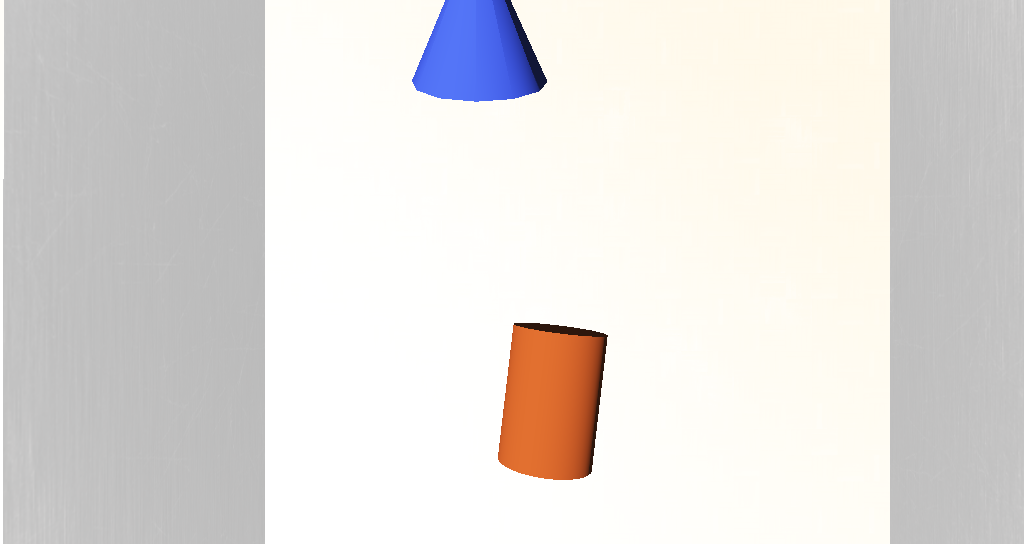cone: (465, 284, 519, 336)
cylinder: (428, 143, 488, 220)
sphere: (327, 200, 468, 305)
